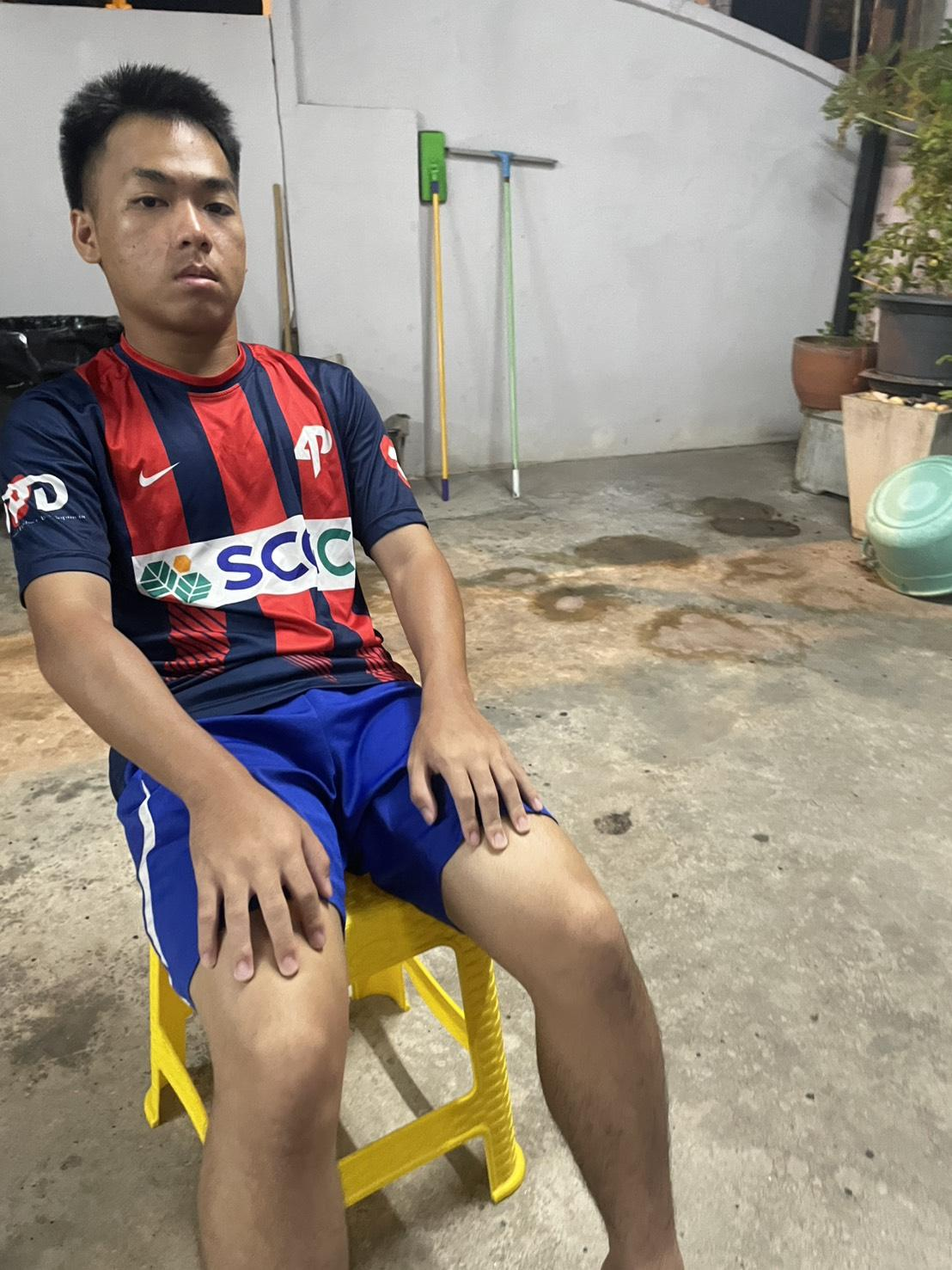BadPosture: (0, 64, 682, 1269)
